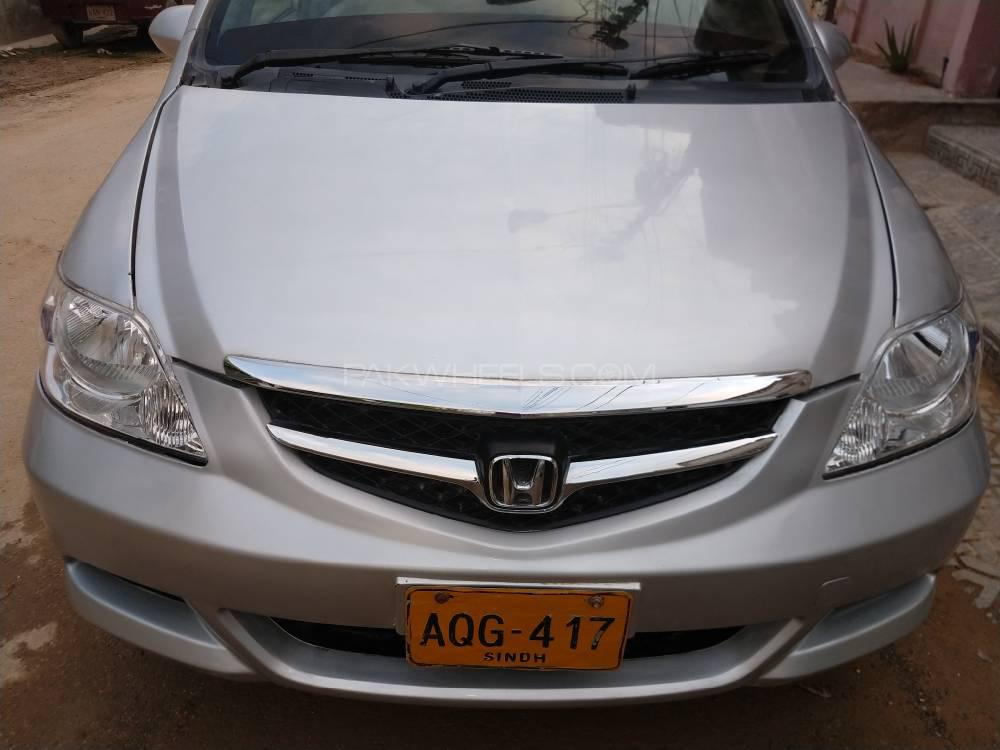license plate: (410, 587, 626, 676)
